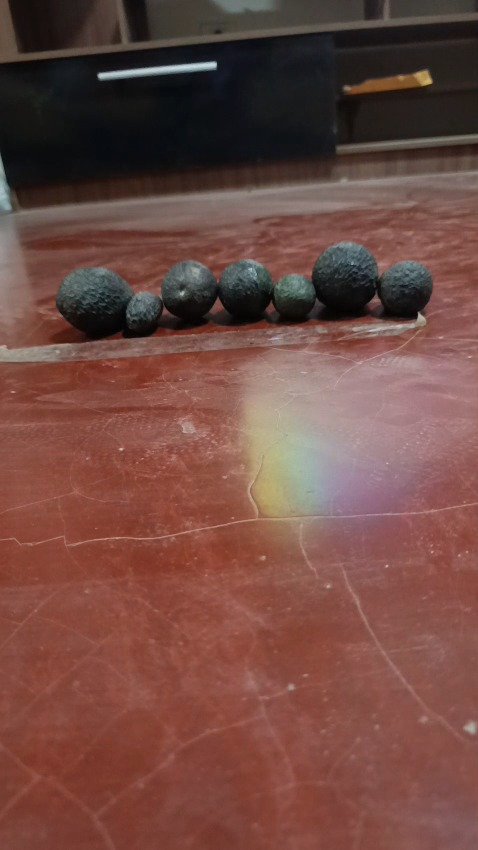Primera: (55, 266, 132, 336), (312, 240, 379, 312)
Segunda: (161, 259, 217, 321), (218, 259, 274, 320), (377, 260, 432, 317)
Tercera: (272, 273, 316, 320), (125, 291, 163, 334)
